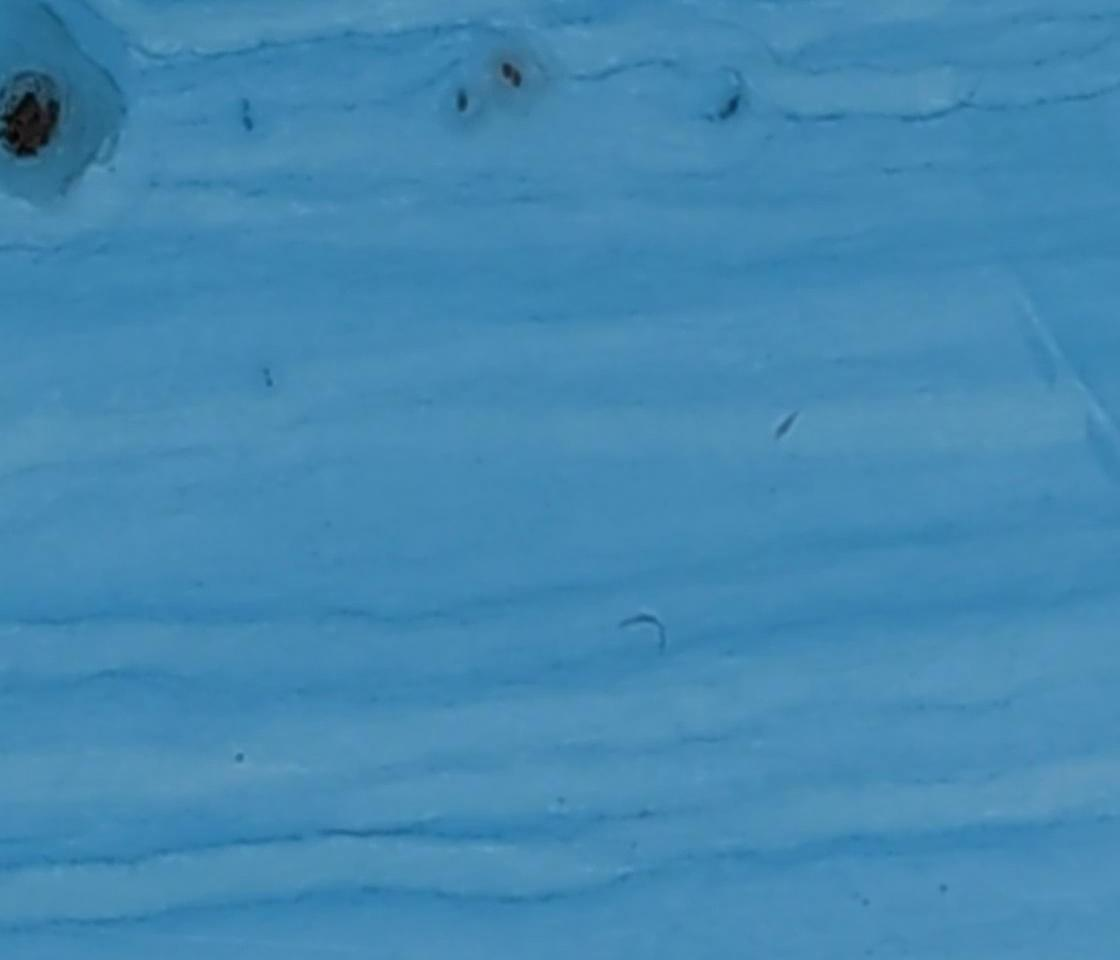rust: (1, 71, 75, 161)
